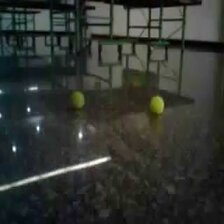tennis: (149, 95, 165, 115), (71, 91, 86, 109)
